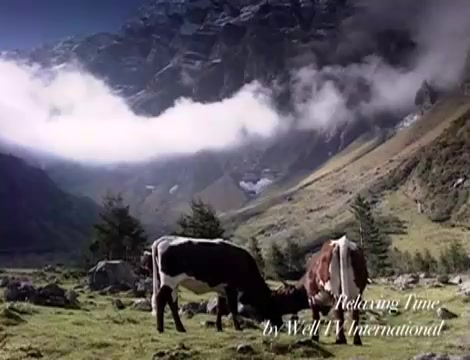cow: (150, 235, 285, 332)
